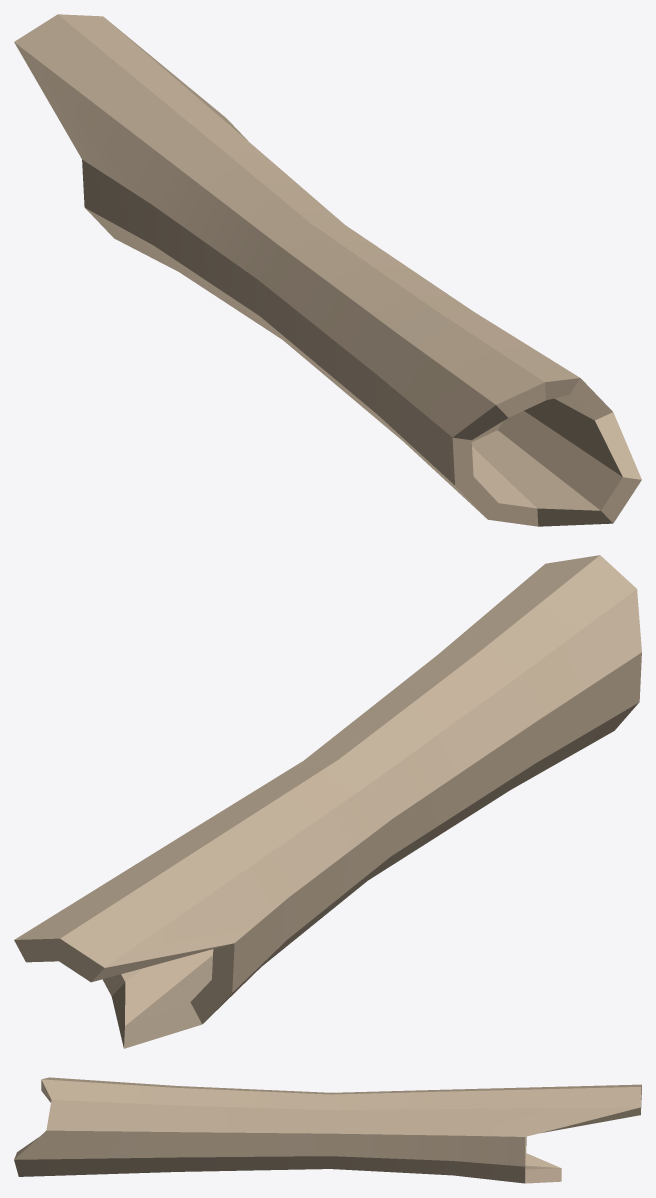
The model's file is SM_Bones_03.fbx.
3 views of the same model, one above another, from view 1: azimuth 30°, elevation 25°; view 2: azimuth 150°, elevation 25°; view 3: azimuth 270°, elevation 25° (orthographic). The views are drawn at different scales.
Parts seen in each view (by area): view 1: SM_Bones_03; view 2: SM_Bones_03; view 3: SM_Bones_03.
Boxes of the visible parts, <box> form: SM_Bones_03: <box>14,14,641,526</box>; SM_Bones_03: <box>14,555,641,1048</box>; SM_Bones_03: <box>14,1077,641,1183</box>.
Size of the model in its own units: 6.54 by 6.46 by 38.29.
Materials: 1 (1 with a texture image).
